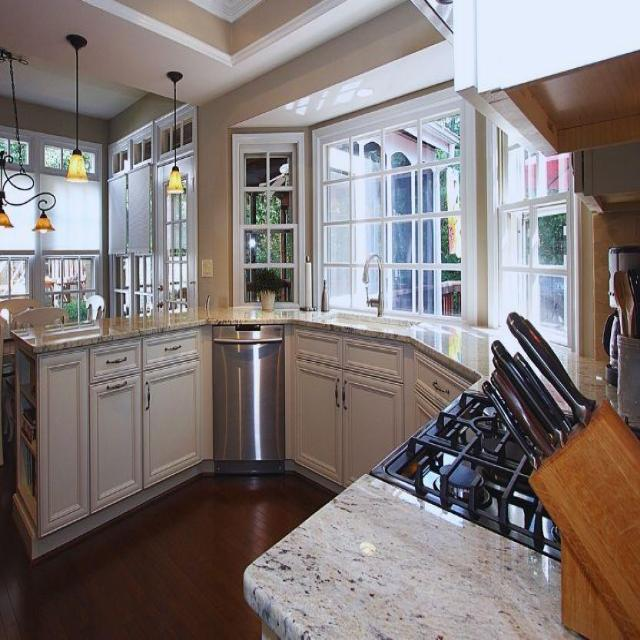dishwasher: (202, 302, 294, 504)
